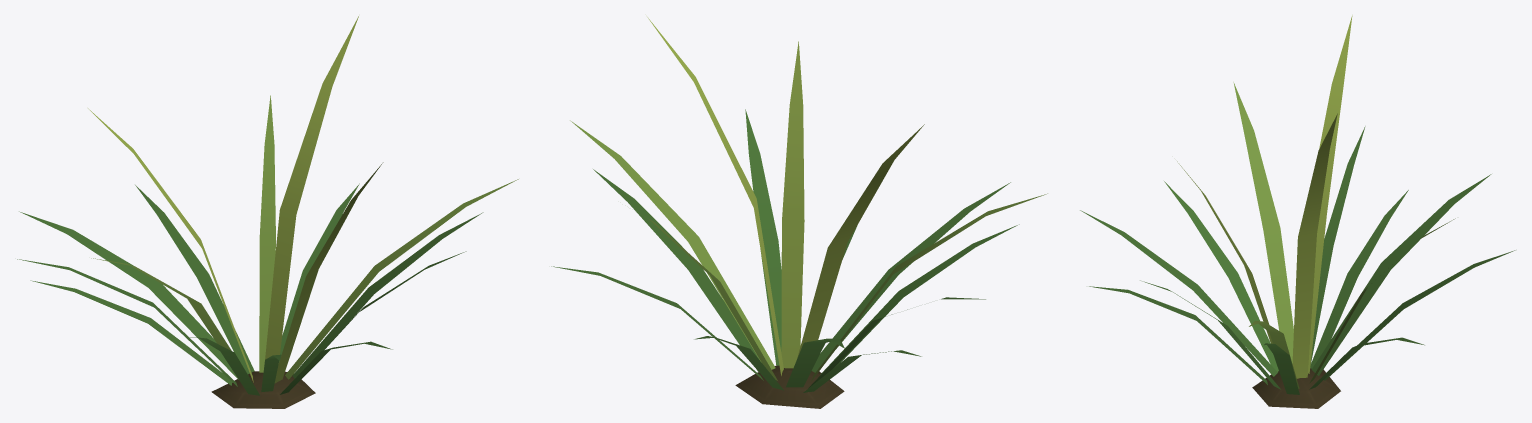
File: grass_tuft_3.glb
3 views of the same model, side by side, from view 1: azimuth 30°, elevation 25°; view 2: azimuth 150°, elevation 25°; view 3: azimuth 270°, elevation 25° (orthographic). The views are drawn at different scales.
Parts seen in each view (by area): view 1: grass_tuft_3; view 2: grass_tuft_3; view 3: grass_tuft_3.
Part boxes in pixels (x1=…): grass_tuft_3: x1=17, y1=16, x2=518, y2=408; grass_tuft_3: x1=551, y1=17, x2=1047, y2=408; grass_tuft_3: x1=1080, y1=15, x2=1515, y2=408.
Size of the model in its own units: 0.35 by 0.25 by 0.3.
2 materials, 2 textured.
